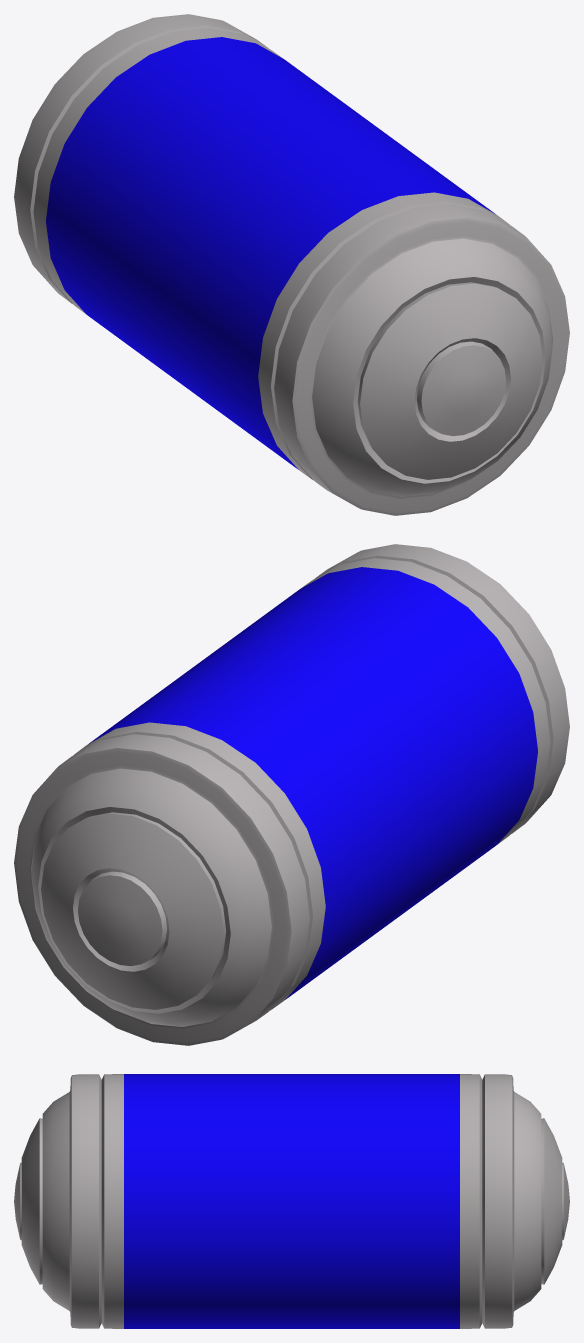
The model's file is Item.FBX.
The picture shows the model from 3 angles, top to bottom: view 1: azimuth 30°, elevation 25°; view 2: azimuth 150°, elevation 25°; view 3: azimuth 270°, elevation 25°; orthographic projection. The views are drawn at different scales.
Parts seen in each view (by area): view 1: base, cover; view 2: base, cover; view 3: cover, base.
Part boxes in pixels (bbox=[...]): base: bbox=[14, 14, 569, 515]; cover: bbox=[46, 37, 494, 469]; base: bbox=[14, 544, 569, 1045]; cover: bbox=[89, 567, 537, 999]; cover: bbox=[124, 1074, 459, 1328]; base: bbox=[14, 1074, 569, 1328].
Bounding box in the file's own units: 32.13 × 32.13 × 69.83.
